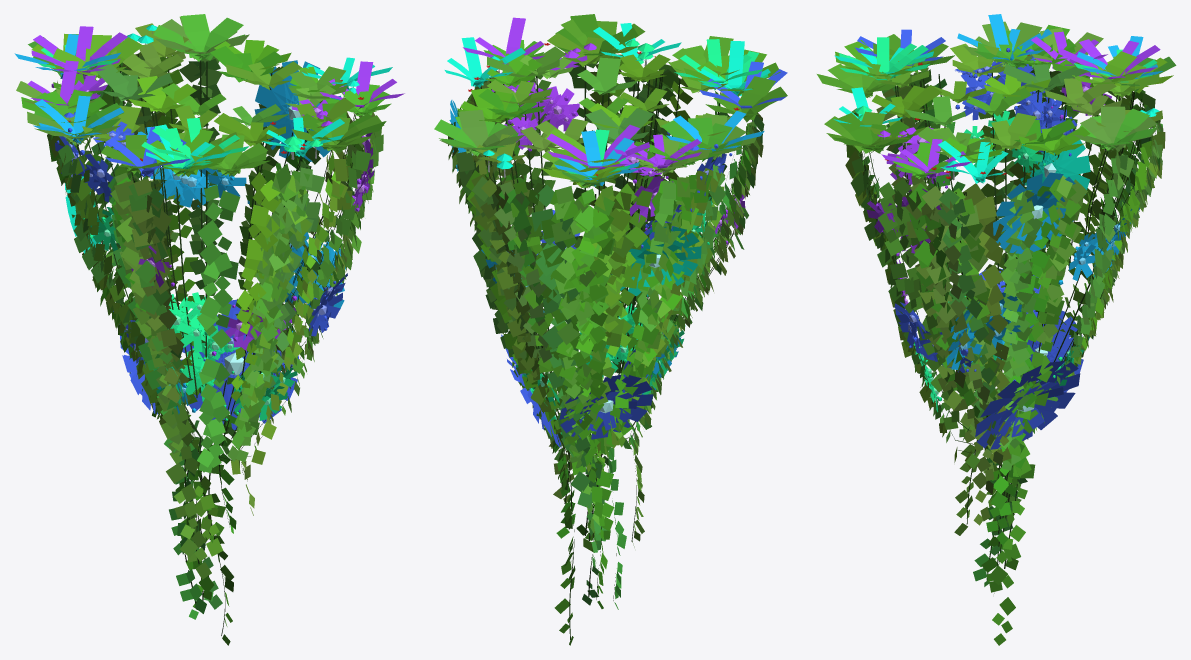
The model's file is SM_H01_Floater08_Dress.fbx.
The picture shows the model from 3 angles, left to right: view 1: azimuth 30°, elevation 25°; view 2: azimuth 150°, elevation 25°; view 3: azimuth 270°, elevation 25°; orthographic projection. The views are drawn at different scales.
Visible parts, largest first — view 1: SM_H01_Floater08_Dress; view 2: SM_H01_Floater08_Dress; view 3: SM_H01_Floater08_Dress.
Part boxes in pixels (x1,y1,x2,y2): SM_H01_Floater08_Dress: (14, 14, 404, 645); SM_H01_Floater08_Dress: (434, 14, 787, 645); SM_H01_Floater08_Dress: (817, 14, 1176, 645).
Bounding box in the file's own units: 26.45 × 43.76 × 25.99.
